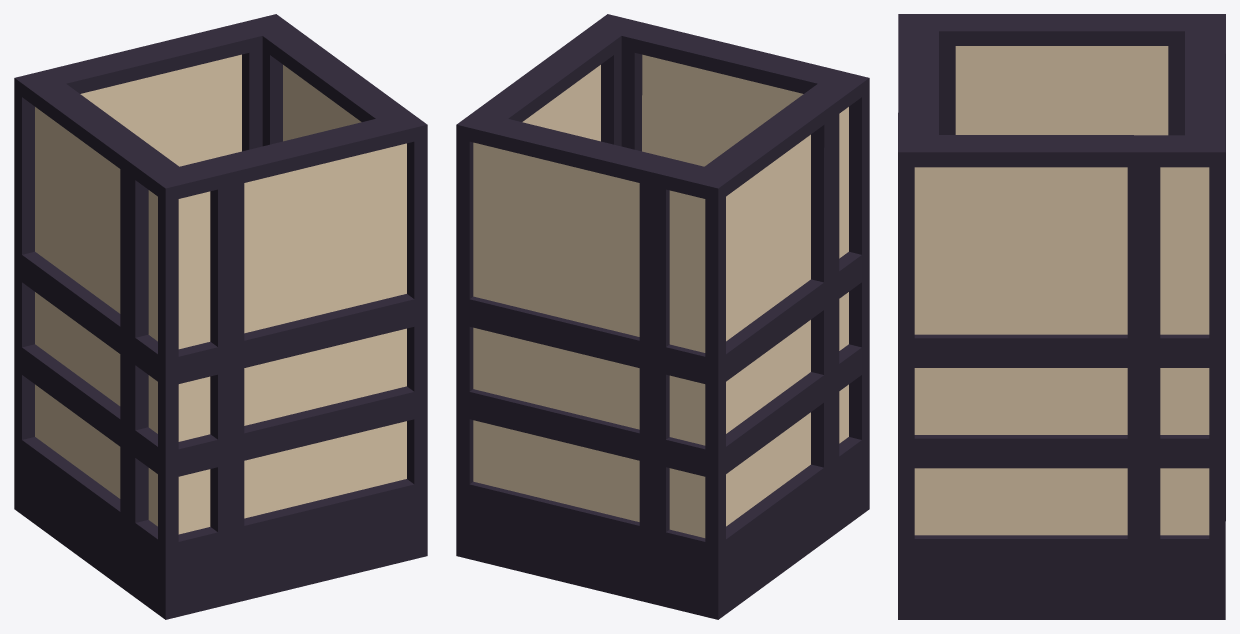
The model's file is Lantern.fbx.
3 views of the same model, side by side, from view 1: azimuth 30°, elevation 25°; view 2: azimuth 150°, elevation 25°; view 3: azimuth 270°, elevation 25° (orthographic). The views are drawn at different scales.
Visible parts, largest first — view 1: Lantern; view 2: Lantern; view 3: Lantern.
Part boxes in pixels (x1,y1,x2,y2): Lantern: (14, 14, 427, 619); Lantern: (456, 14, 869, 619); Lantern: (898, 14, 1225, 619).
Size of the model in its own units: 100 by 157 by 100.
